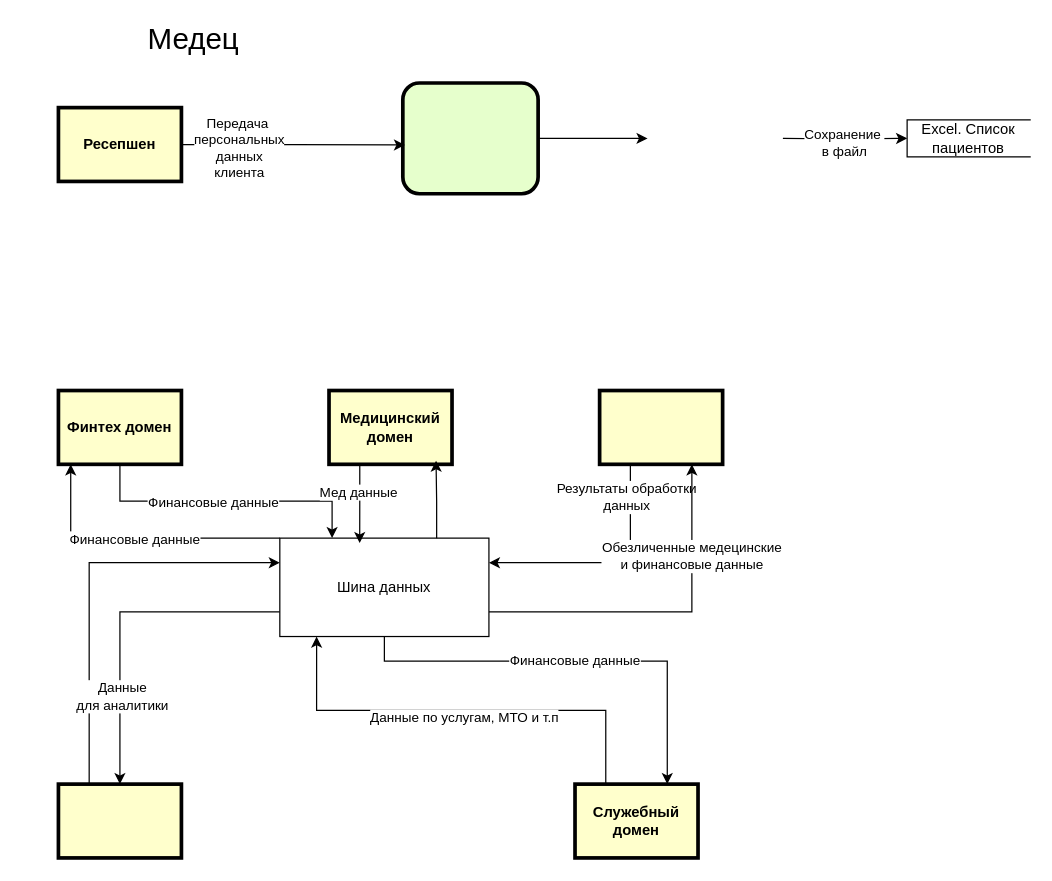
The diagram is 1052 pixels wide and 881 high, and some of its shapes have lost their labels. Here are the shapes that lost their labels. From the top down, the box of each, then its label:
(400, 81, 539, 195): Process 1 Регистрация пациента
(597, 388, 724, 466): ИИ домен
(56, 782, 183, 859): Аналитический домен
